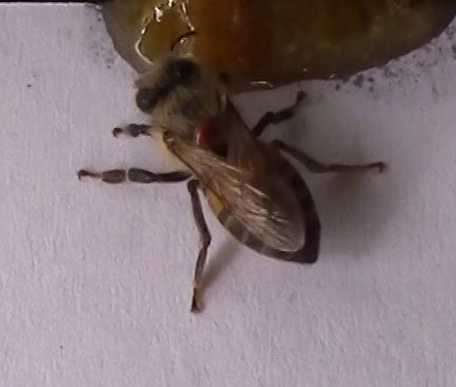Varroa destructor: (187, 112, 227, 152)
